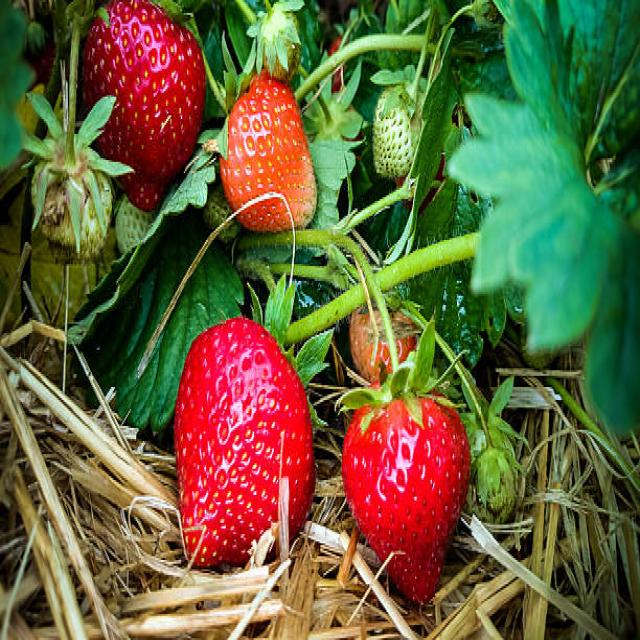Healthy Fruit: (173, 317, 316, 568), (77, 0, 205, 215), (342, 397, 471, 605), (220, 69, 318, 232)
